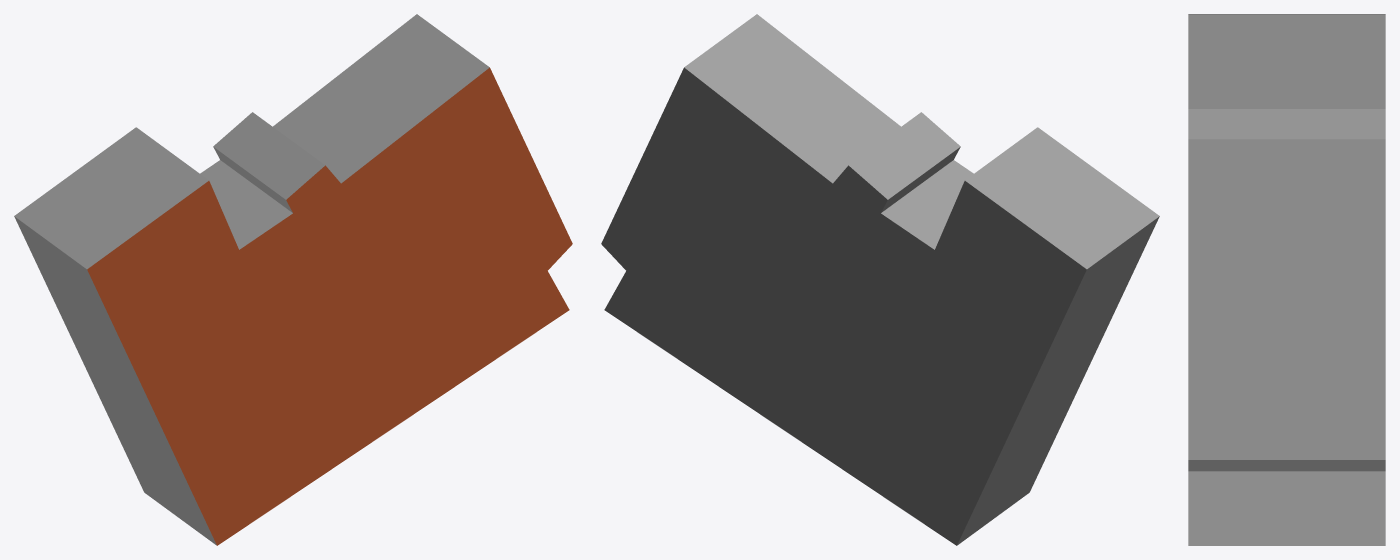
Rendered from construction_3339_assumed_A_Casa_h6m.obj.
3 views of the same model, side by side, from view 1: azimuth 30°, elevation 25°; view 2: azimuth 150°, elevation 25°; view 3: azimuth 270°, elevation 25° (orthographic). The views are drawn at different scales.
Parts seen in each view (by area): view 1: construction_3339_assumed_A_Casa; view 2: construction_3339_assumed_A_Casa; view 3: construction_3339_assumed_A_Casa.
Boxes of the visible parts, bbox=[...] form: construction_3339_assumed_A_Casa: bbox=[14, 14, 572, 545]; construction_3339_assumed_A_Casa: bbox=[601, 14, 1159, 545]; construction_3339_assumed_A_Casa: bbox=[1188, 14, 1385, 545].
Bounding box in the file's own units: 23.07 × 18.7 × 6.
